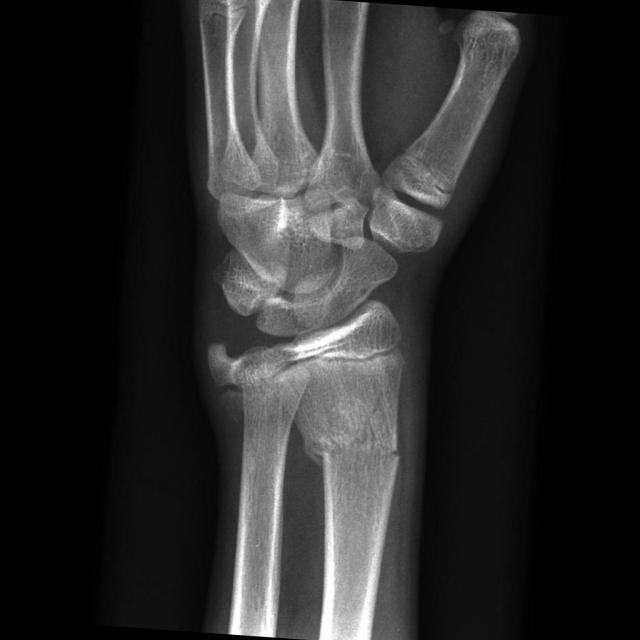Transverse Displaced: (301, 418, 410, 488)
